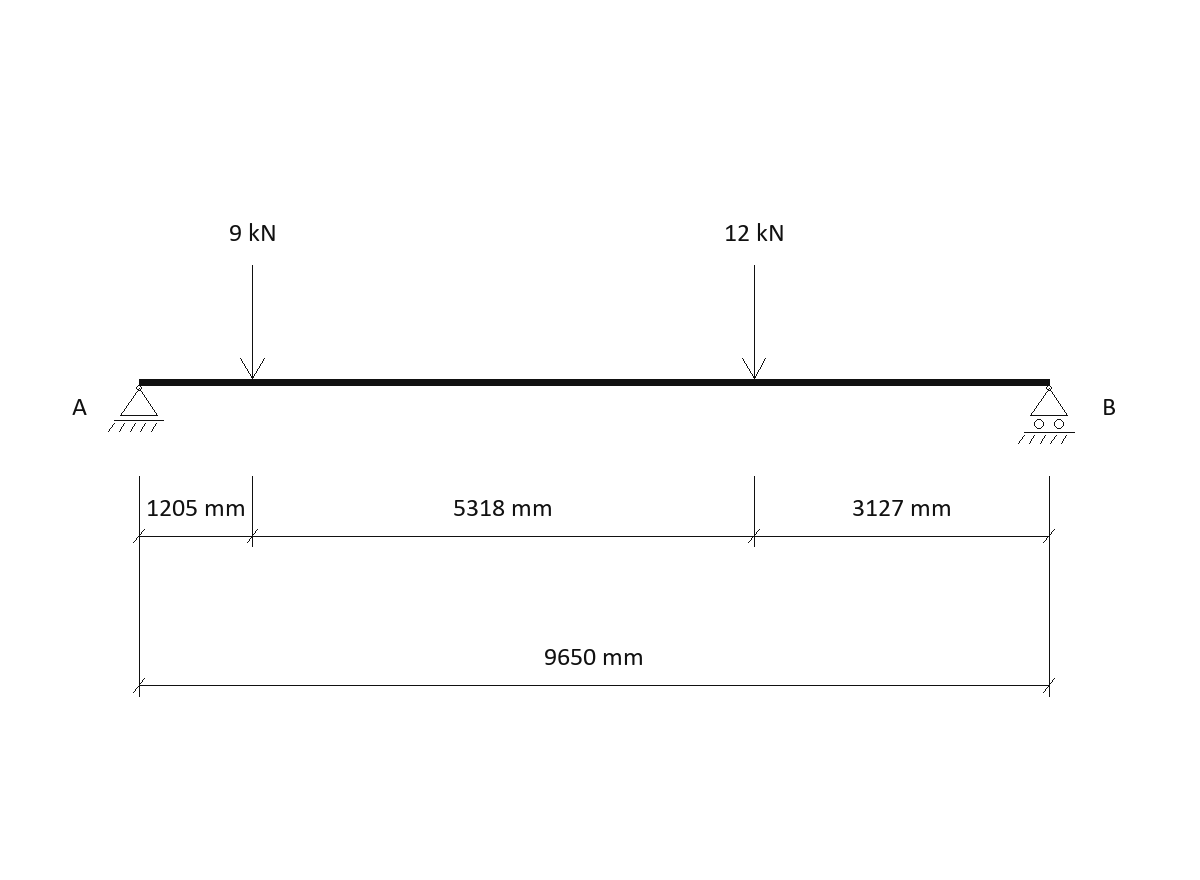pin_support: (108, 385, 164, 432)
point_load: (240, 265, 265, 379), (742, 265, 766, 379)
roller_support: (1018, 385, 1075, 444)
